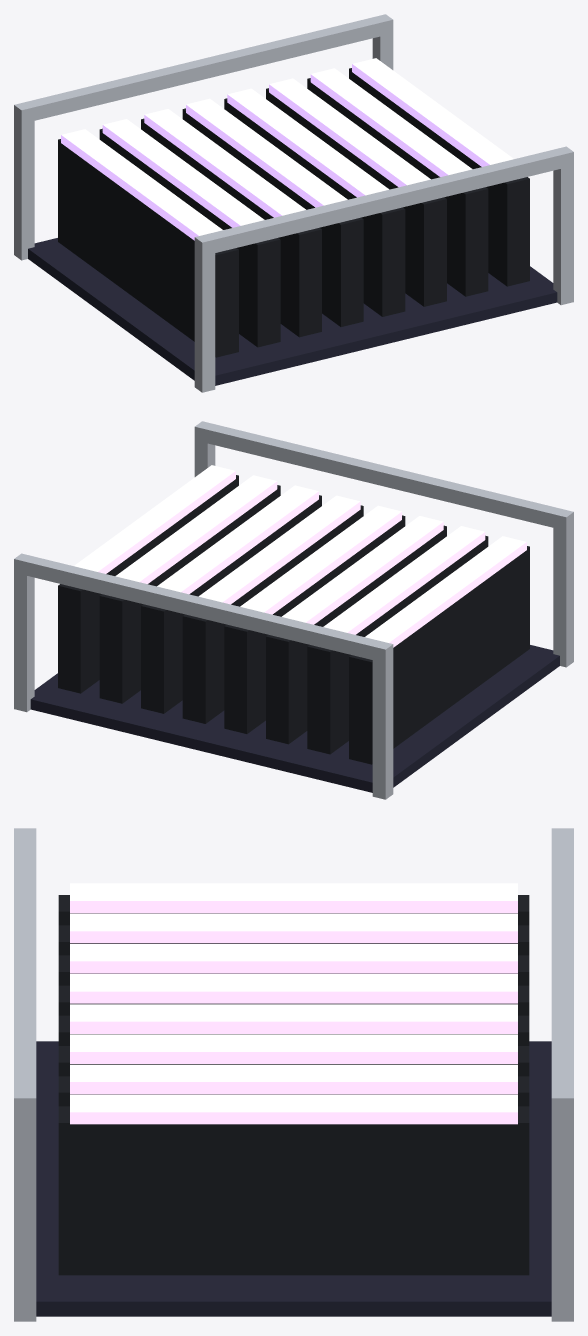
File: station_buffer_ausstattung_1_2.glb
The picture shows the model from 3 angles, top to bottom: view 1: azimuth 30°, elevation 25°; view 2: azimuth 150°, elevation 25°; view 3: azimuth 270°, elevation 25°; orthographic projection. The views are drawn at different scales.
Parts seen in each view (by area): view 1: station_buffer_ausstattung_1_2; view 2: station_buffer_ausstattung_1_2; view 3: station_buffer_ausstattung_1_2.
Part boxes in pixels (box(x1,y1,x2,y2)): station_buffer_ausstattung_1_2: box(14, 14, 573, 392); station_buffer_ausstattung_1_2: box(14, 421, 573, 799); station_buffer_ausstattung_1_2: box(14, 828, 573, 1321).
Bounding box in the file's own units: 0.57 × 0.22 × 0.5.
